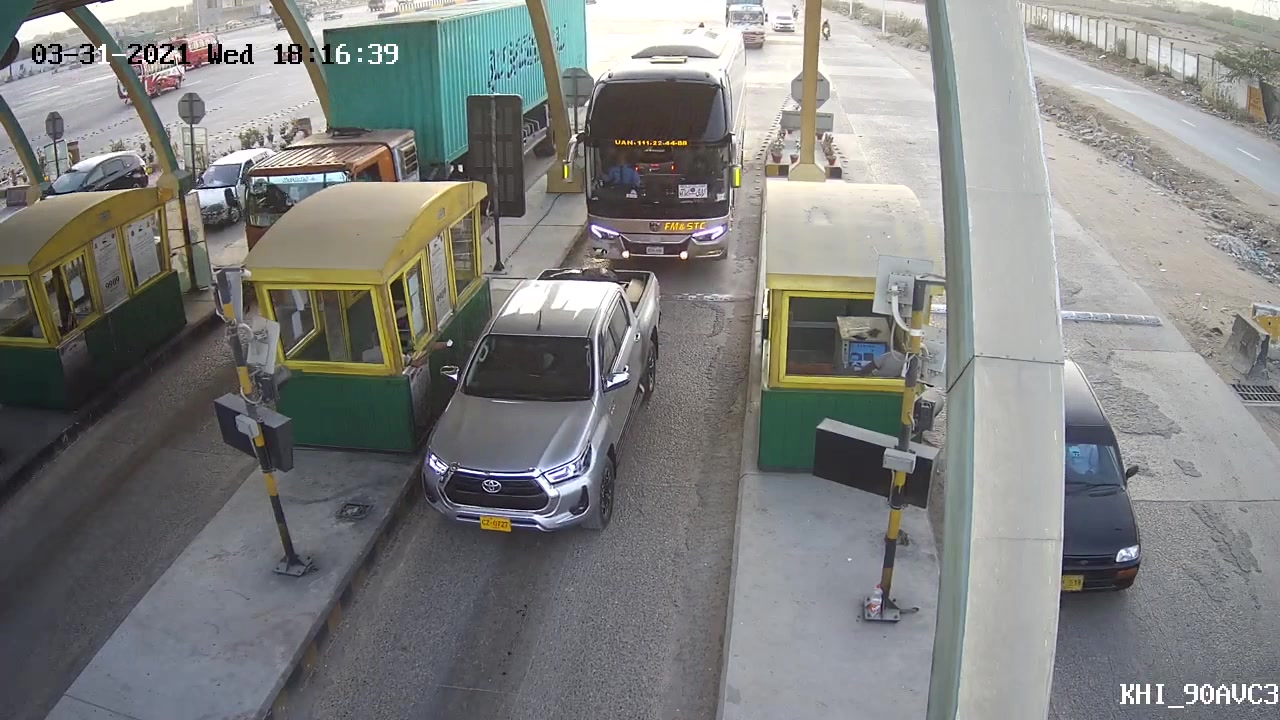F1: (409, 264, 660, 536)
F4: (559, 53, 750, 263)
